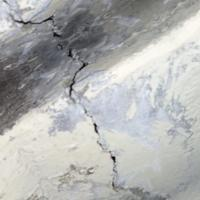crack: (5, 3, 136, 197)
